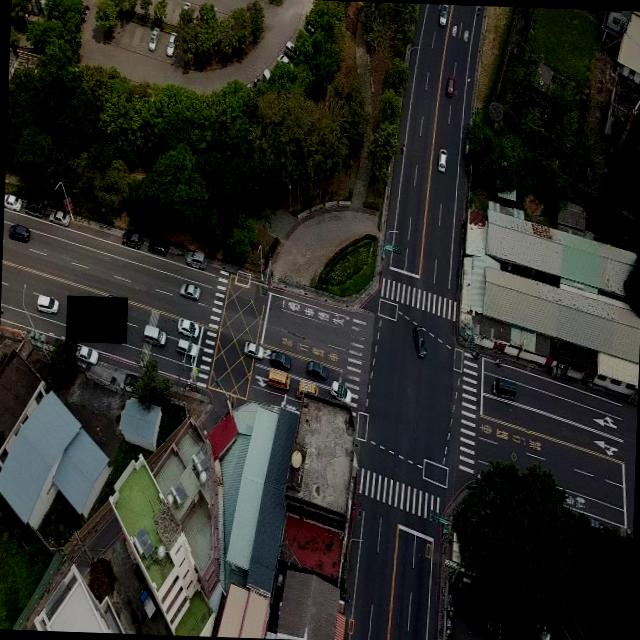bike: (470, 348, 480, 358), (494, 356, 502, 366), (400, 142, 406, 154)
bus: (492, 375, 516, 400), (267, 367, 290, 390), (296, 377, 318, 399)
car: (329, 380, 352, 406), (174, 336, 202, 357), (526, 615, 549, 640), (74, 344, 98, 366), (142, 324, 166, 346), (268, 348, 291, 370), (412, 322, 426, 358), (176, 316, 198, 338), (120, 228, 142, 250), (36, 293, 59, 314), (282, 36, 302, 60), (122, 371, 141, 396), (306, 358, 328, 379), (146, 235, 168, 256), (8, 222, 30, 242), (178, 280, 200, 300), (23, 198, 45, 218), (262, 68, 278, 95), (186, 249, 206, 270), (243, 340, 264, 359), (48, 208, 70, 226), (278, 51, 294, 74), (4, 192, 22, 212), (178, 1, 192, 24), (166, 32, 177, 56), (436, 148, 446, 172), (148, 26, 158, 50), (438, 4, 448, 26), (154, 0, 166, 17), (444, 76, 454, 96)
